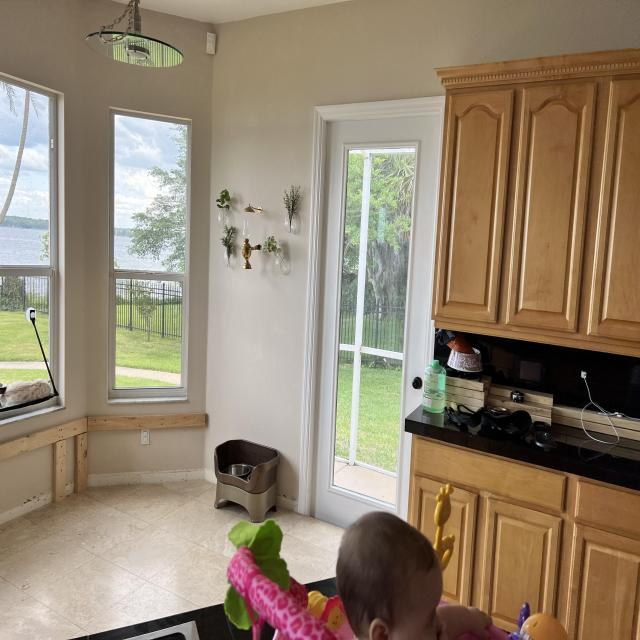Cabinet_Flat: (414, 437, 640, 541)
Cabinet_Raised_Panel: (432, 48, 640, 360), (442, 488, 640, 640), (408, 474, 442, 543)
Countertop_Solid_Surface: (405, 406, 640, 491)
